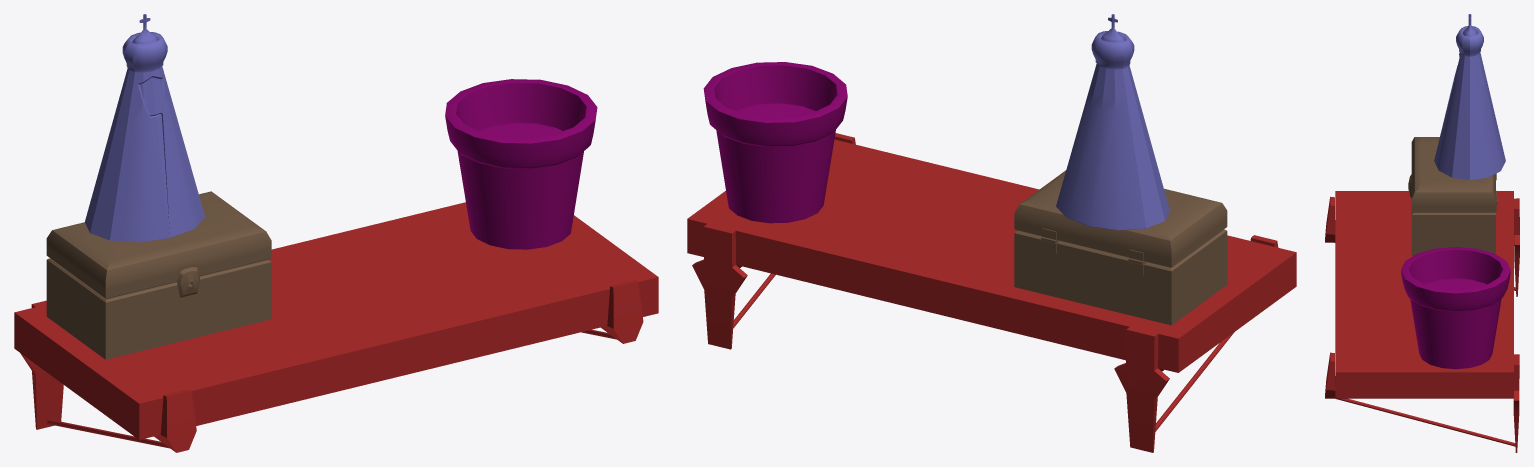
File: PROP_PrateleiraCompleta.fbx
The picture shows the model from 3 angles, left to right: view 1: azimuth 30°, elevation 25°; view 2: azimuth 150°, elevation 25°; view 3: azimuth 270°, elevation 25°; orthographic projection. The views are drawn at different scales.
Parts seen in each view (by area): view 1: Prateleira, Caixinha, VasoPlanta, NossaSenhora; view 2: Prateleira, Caixinha, VasoPlanta, NossaSenhora; view 3: Prateleira, VasoPlanta, Caixinha, NossaSenhora.
Part boxes in pixels (bbox=[...]): Prateleira: bbox=[14, 202, 658, 452]; Caixinha: bbox=[46, 191, 271, 359]; VasoPlanta: bbox=[445, 79, 597, 249]; NossaSenhora: bbox=[85, 14, 204, 242]; Prateleira: bbox=[687, 133, 1296, 452]; Caixinha: bbox=[1014, 170, 1227, 325]; VasoPlanta: bbox=[703, 62, 847, 223]; NossaSenhora: bbox=[1056, 14, 1169, 230]; Prateleira: bbox=[1325, 191, 1519, 452]; VasoPlanta: bbox=[1401, 247, 1510, 369]; Caixinha: bbox=[1408, 137, 1497, 255]; NossaSenhora: bbox=[1434, 14, 1505, 180].
Bounding box in the file's own units: 5.74 × 4.33 × 2.54.
